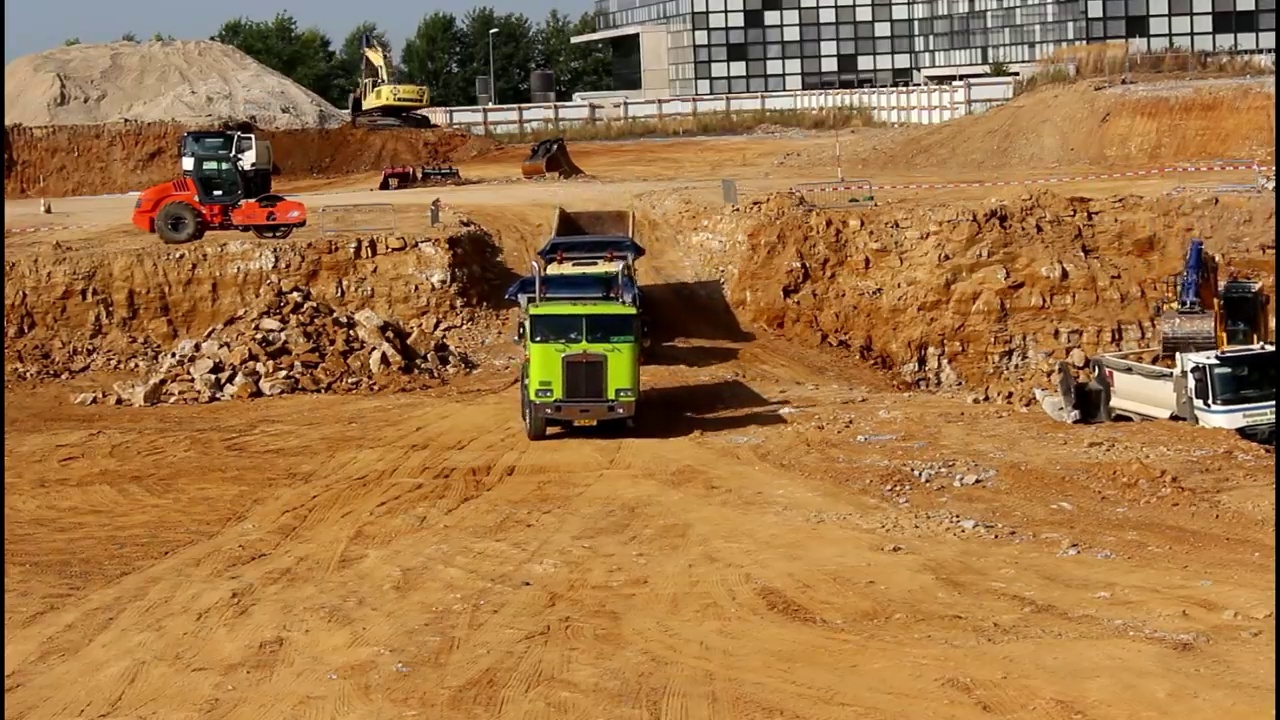compactor: (128, 154, 312, 243)
excavator: (1137, 236, 1280, 370), (332, 27, 439, 136)
truck: (1078, 331, 1280, 474), (511, 295, 654, 444), (523, 195, 659, 347), (173, 116, 281, 205)
